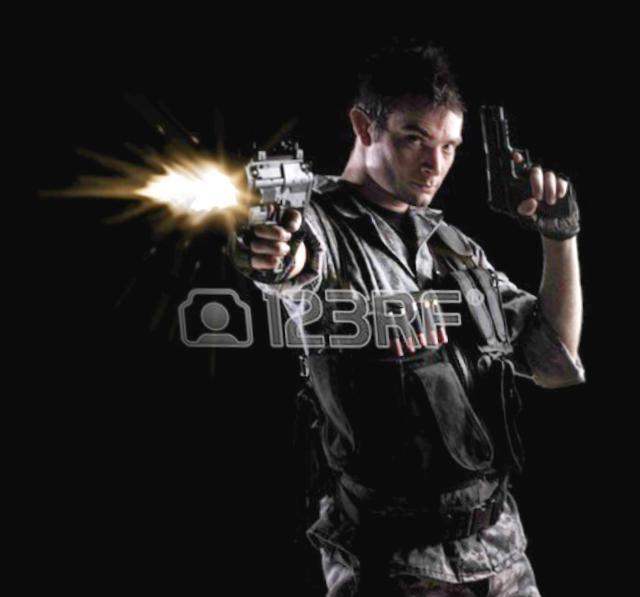pistol: (456, 68, 578, 235), (201, 127, 320, 289)
